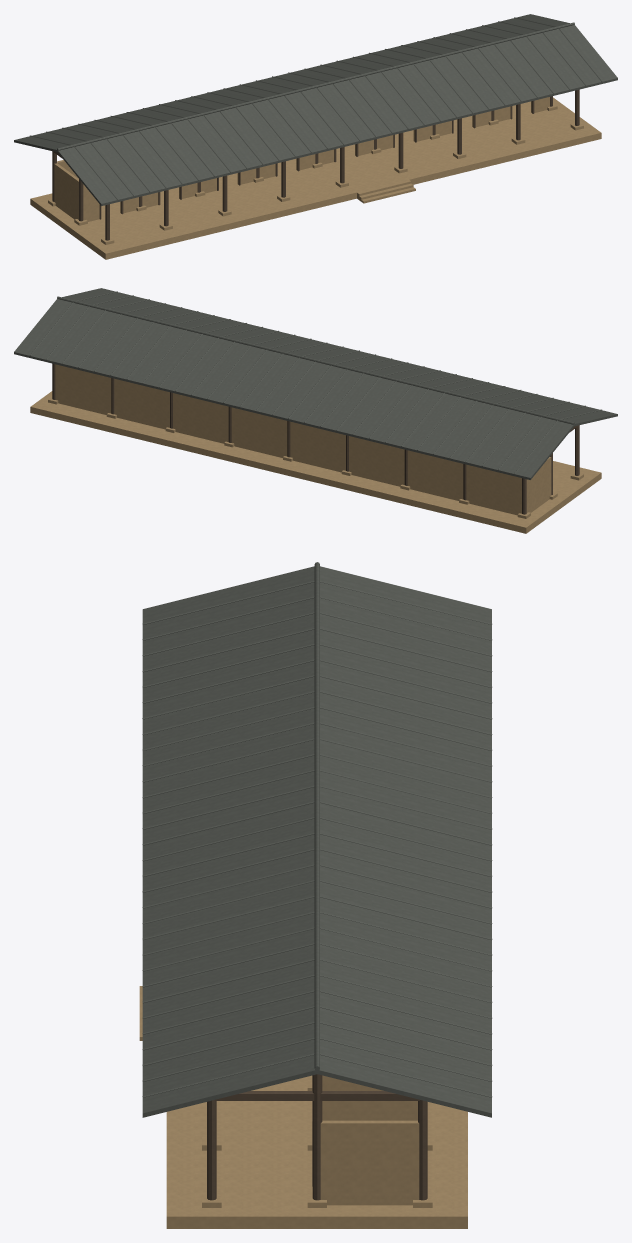
File: sidehall-A-LOD1.glb
3 renders of one model, top to bottom at view 1: azimuth 30°, elevation 25°; view 2: azimuth 150°, elevation 25°; view 3: azimuth 270°, elevation 25°, orthographic. The views are drawn at different scales.
Parts seen in each view (by area): view 1: sidehall-A-static_tile, sidehall-A-static_earth, sidehall-A-static_timber; view 2: sidehall-A-static_tile, sidehall-A-static_earth, sidehall-A-static_timber; view 3: sidehall-A-static_tile, sidehall-A-static_earth, sidehall-A-static_timber.
Part boxes in pixels (<box>): sidehall-A-static_tile: <box>14,14,617,205</box>; sidehall-A-static_earth: <box>30,97,601,259</box>; sidehall-A-static_timber: <box>52,89,579,240</box>; sidehall-A-static_tile: <box>14,288,617,479</box>; sidehall-A-static_earth: <box>30,364,601,533</box>; sidehall-A-static_timber: <box>52,363,579,514</box>; sidehall-A-static_tile: <box>142,562,492,1117</box>; sidehall-A-static_earth: <box>139,986,467,1228</box>; sidehall-A-static_timber: <box>207,1074,427,1200</box>.
Bounding box in the file's own units: 39.6 × 6.33 × 11.71.
Materials: 3 (3 with a texture image).
